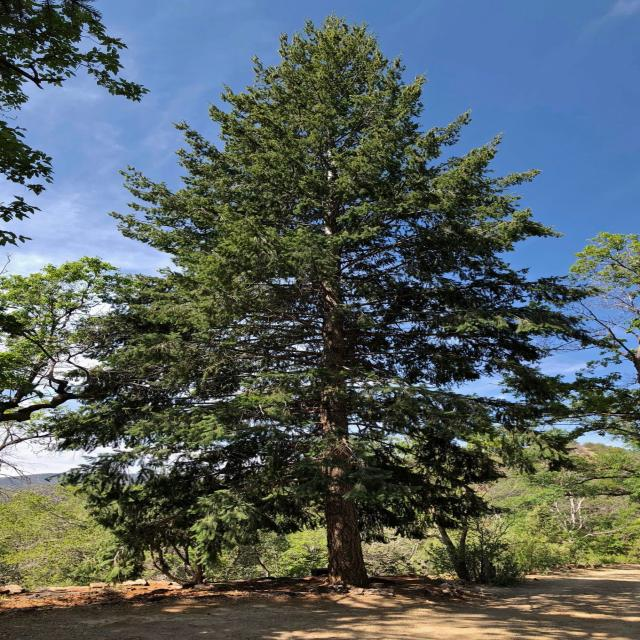Pseudotsuga menziesii: (45, 14, 604, 571)
